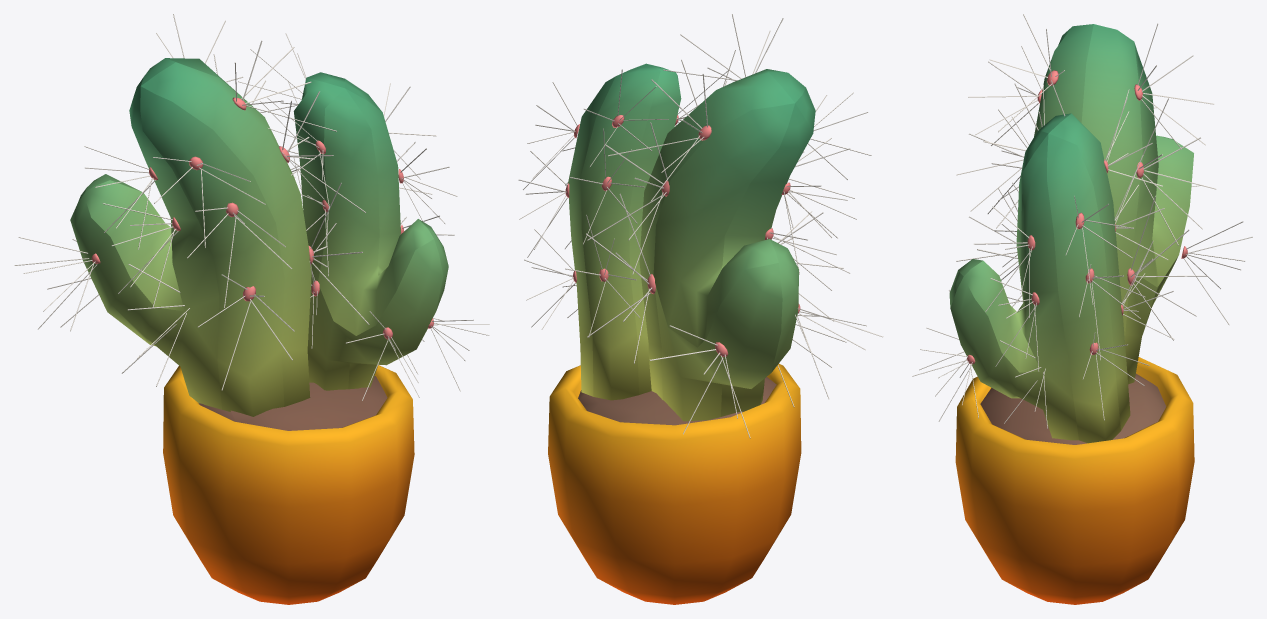
File: Cactus_2.fbx
The picture shows the model from 3 angles, left to right: view 1: azimuth 30°, elevation 25°; view 2: azimuth 150°, elevation 25°; view 3: azimuth 270°, elevation 25°; orthographic projection. The views are drawn at different scales.
Parts seen in each view (by area): view 1: Cactus_2; view 2: Cactus_2; view 3: Cactus_2.
Part boxes in pixels (box(x1,y1,x2,y2)): Cactus_2: box(14, 14, 489, 604); Cactus_2: box(518, 14, 883, 604); Cactus_2: box(912, 14, 1252, 604).
Bounding box in the file's own units: 0.5259 × 0.7548 × 0.4373.
